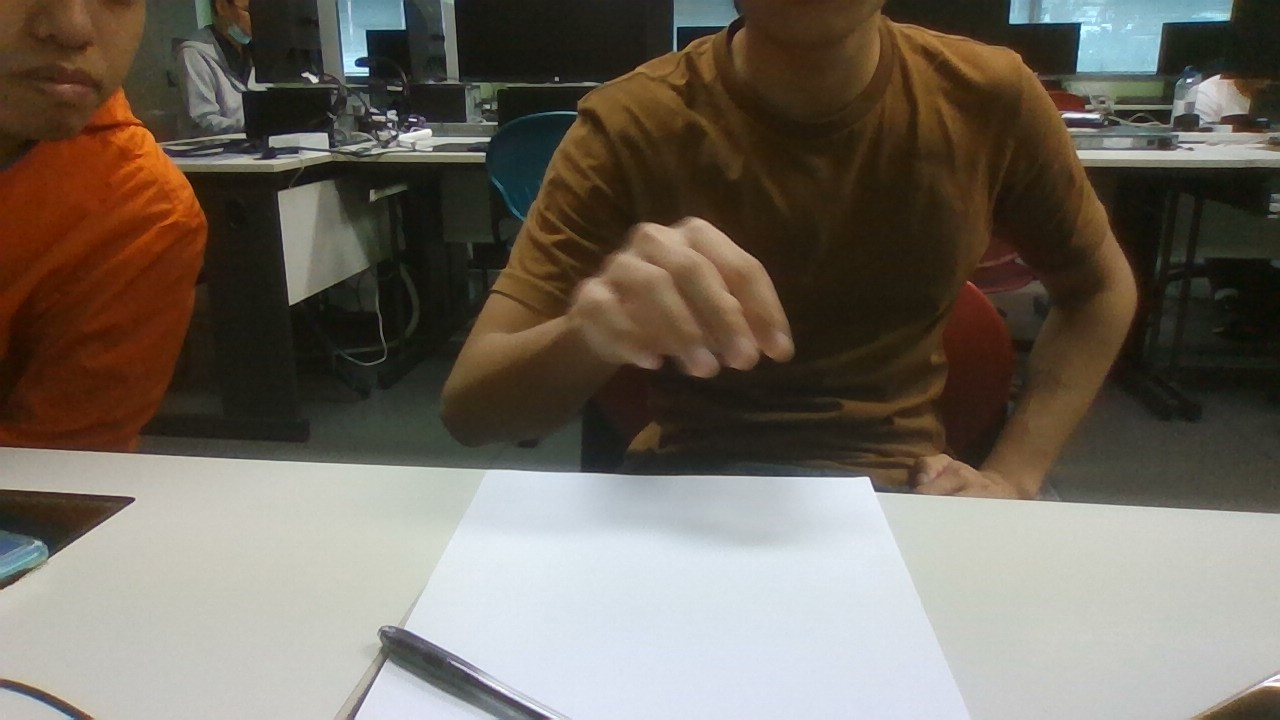pen: (376, 623, 587, 720)
